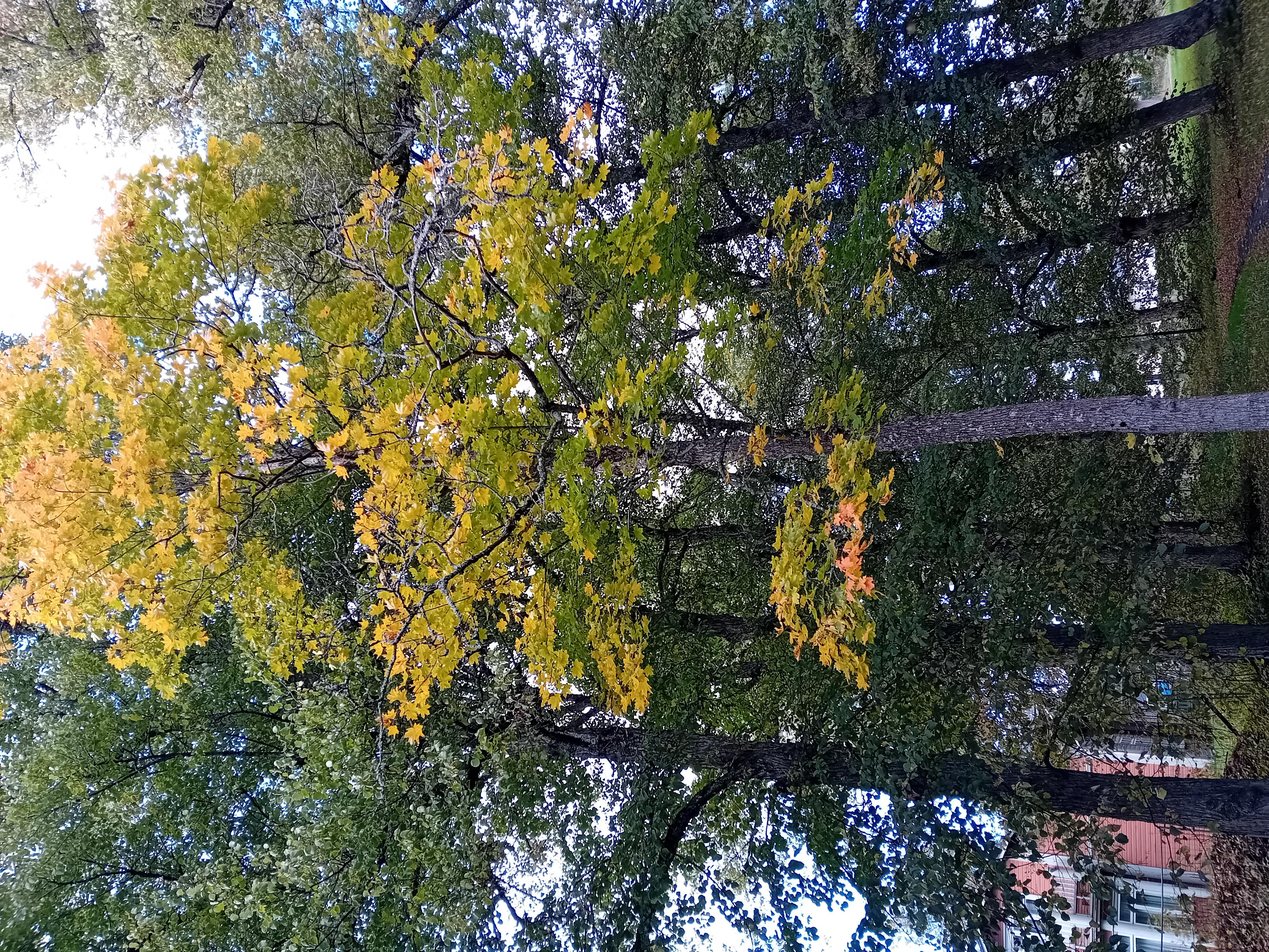Maple: (270, 0, 1084, 949)
